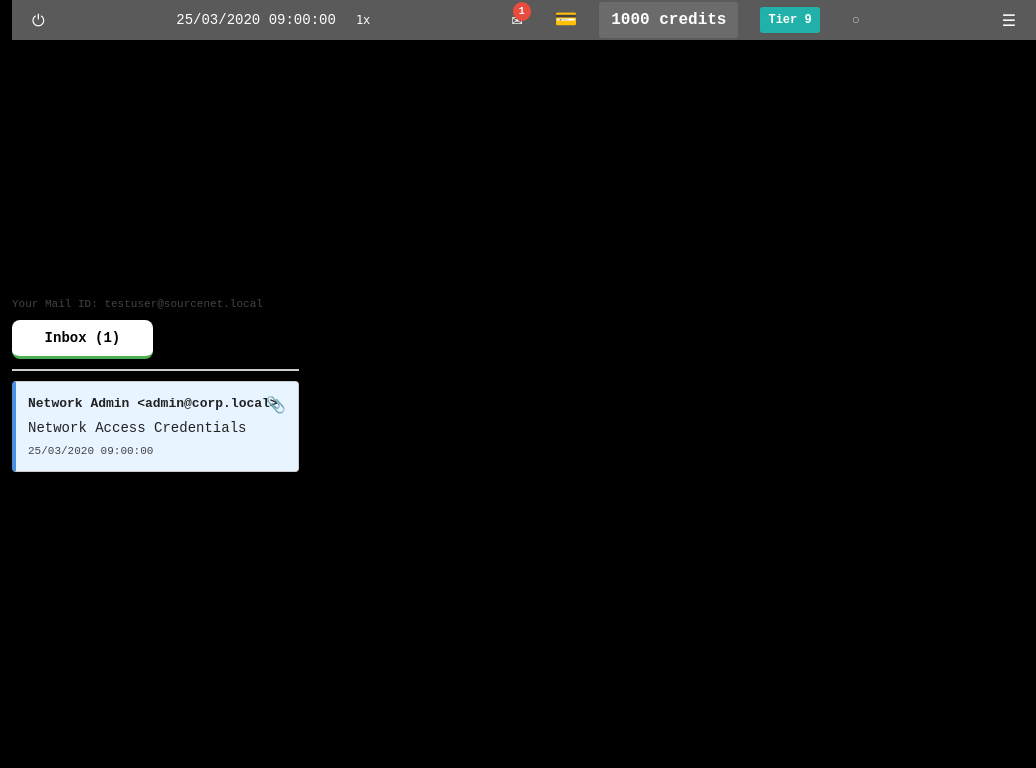
it: Network Address Integration › should show installation requirement when NAR is not installed
Expected: the text "Your Mail ID: testuser@sourcenet.local" is shown, 12,296 -> 299,312
Click the text "Network Access Credentials" at (137, 428), box 28,420 -> 246,436
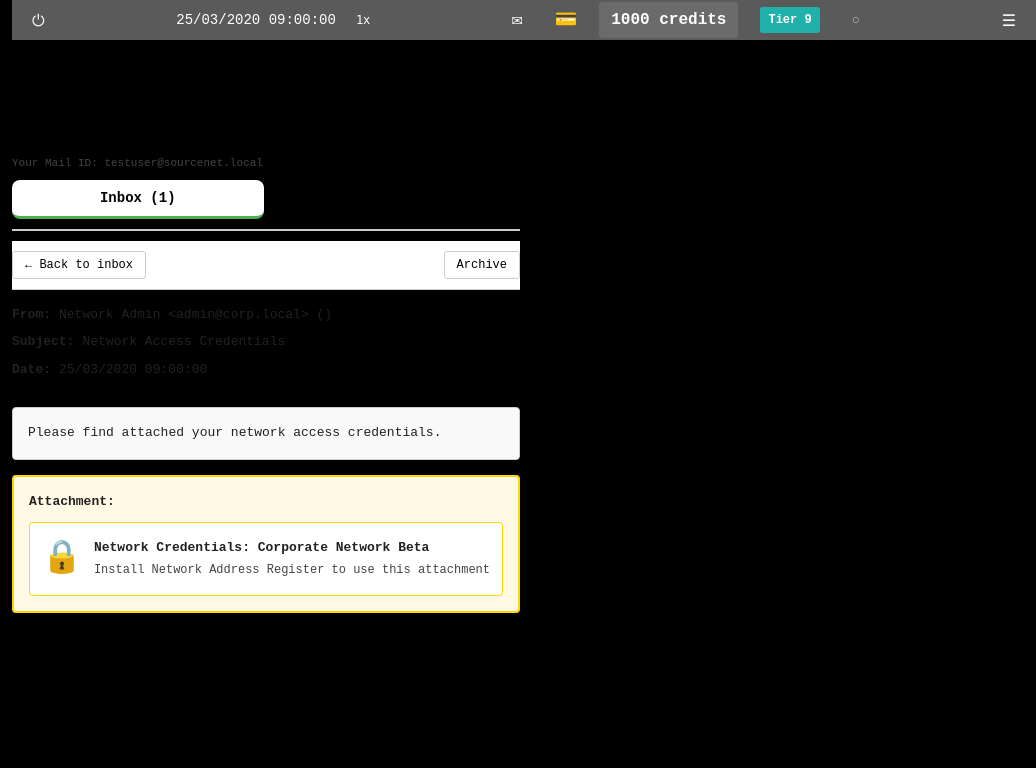
Now the text "Network Credentials: Corporate Network Beta" is shown, box 94,540 -> 429,555
Now the text "Install Network Address Register to use this attachment" is shown, box 94,561 -> 490,579
